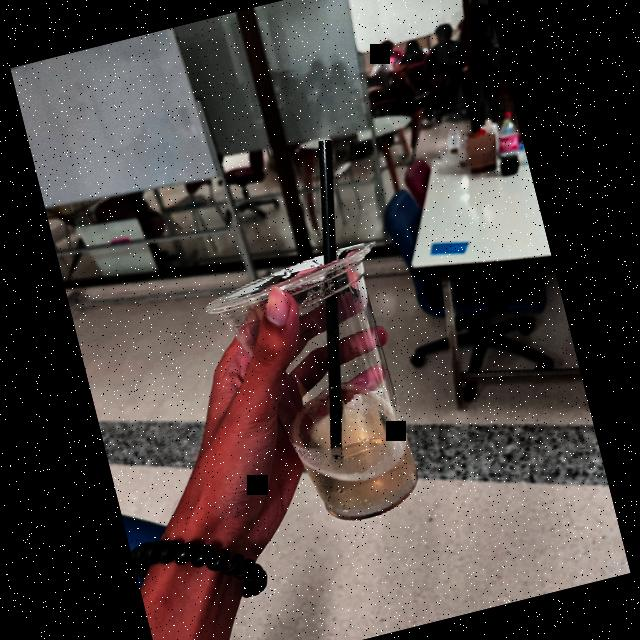plastic_cup: (194, 216, 470, 560)
straw: (248, 128, 408, 462)
